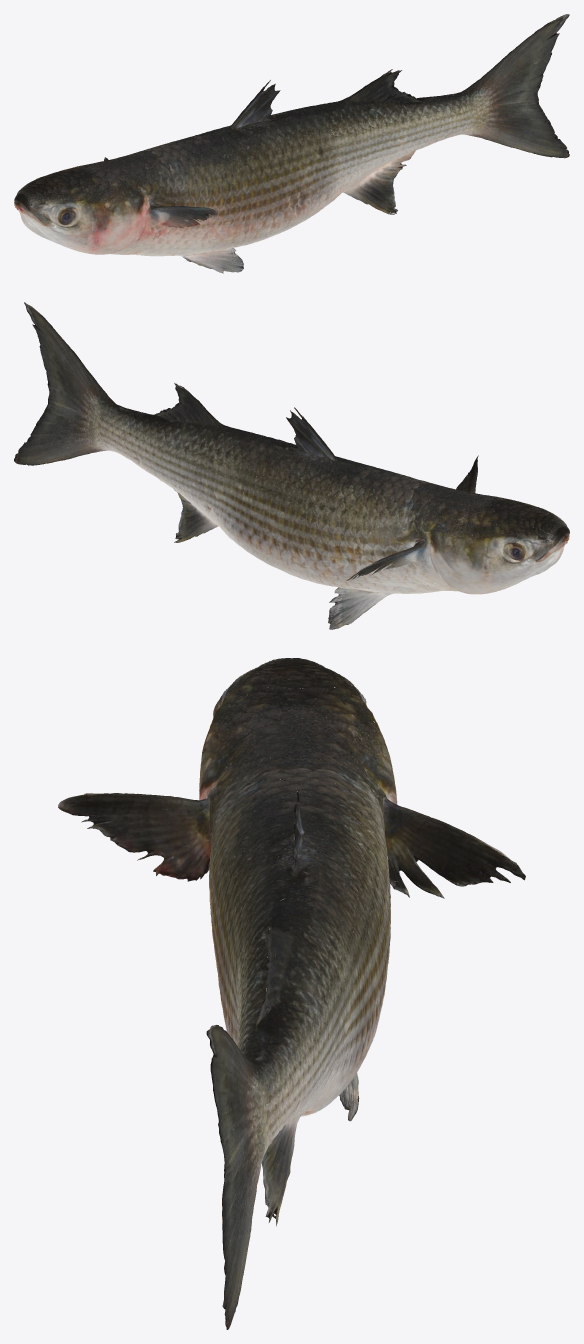
Rendered from pejerrey.glb.
The picture shows the model from 3 angles, top to bottom: view 1: azimuth 30°, elevation 25°; view 2: azimuth 150°, elevation 25°; view 3: azimuth 270°, elevation 25°; orthographic projection. The views are drawn at different scales.
Parts seen in each view (by area): view 1: Result_Q10876-1-3_0; view 2: Result_Q10876-1-3_0; view 3: Result_Q10876-1-3_0.
Boxes of the visible parts, x1,y1,x2,y2 form: Result_Q10876-1-3_0: (14, 14, 569, 273); Result_Q10876-1-3_0: (14, 302, 569, 629); Result_Q10876-1-3_0: (58, 658, 525, 1329).
Bounding box in the file's own units: 18.86 × 6.81 × 7.13.
1 material, 1 textured.
